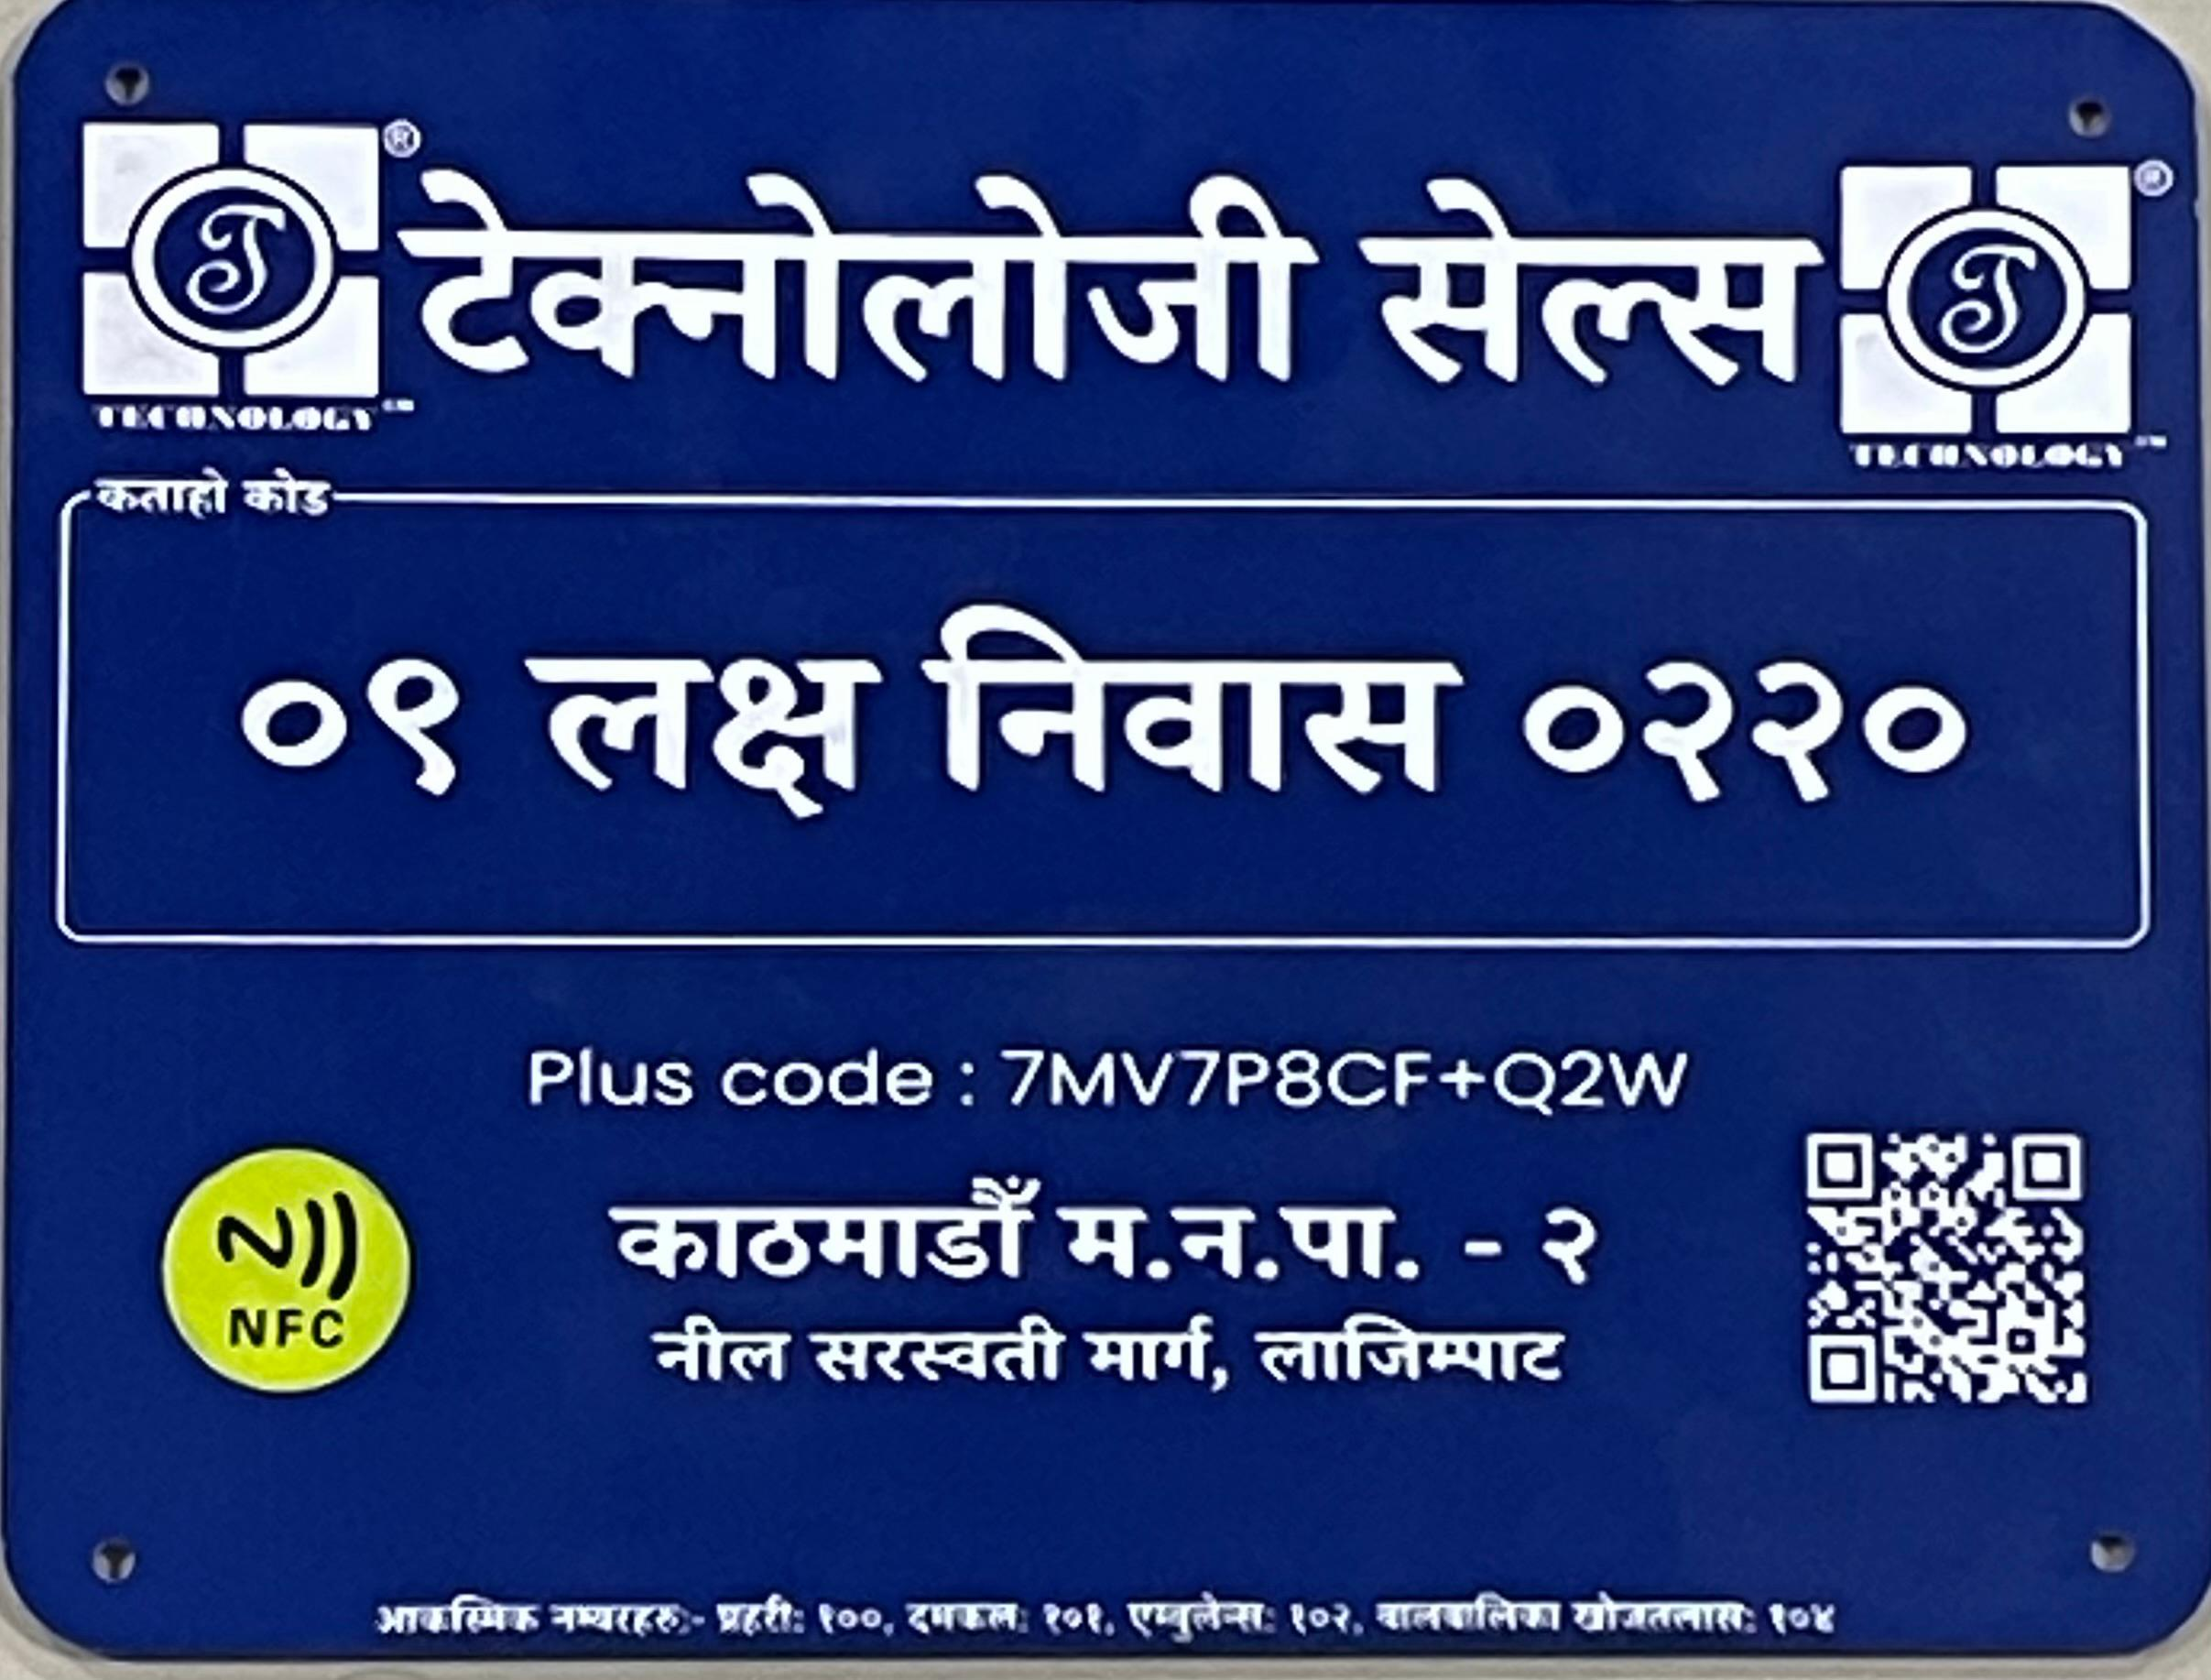Plate: (5, 4, 2211, 1680)
